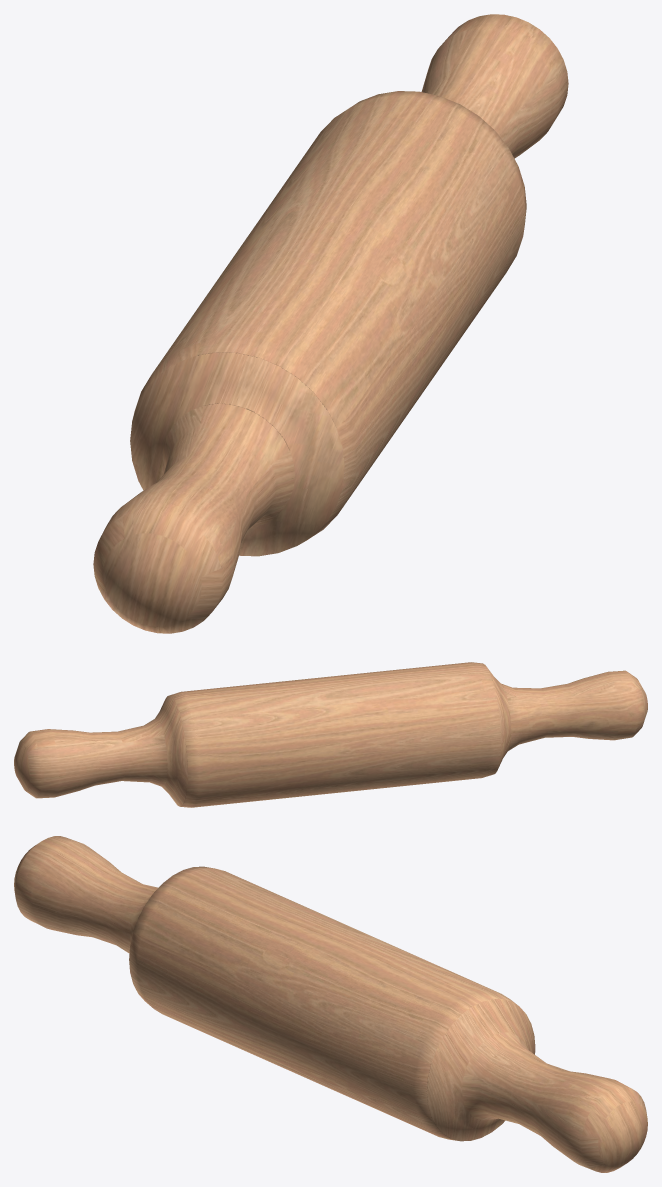
File: low-poly_rolling_pin.fbx
3 renders of one model, top to bottom at view 1: azimuth 30°, elevation 25°; view 2: azimuth 150°, elevation 25°; view 3: azimuth 270°, elevation 25°, orthographic. The views are drawn at different scales.
Parts seen in each view (by area): view 1: node_857ee8d4_5890_449c_86ff_f28c50228d25_mesh0; view 2: node_857ee8d4_5890_449c_86ff_f28c50228d25_mesh0; view 3: node_857ee8d4_5890_449c_86ff_f28c50228d25_mesh0.
Part boxes in pixels (bbox=[...]): node_857ee8d4_5890_449c_86ff_f28c50228d25_mesh0: bbox=[93, 14, 568, 633]; node_857ee8d4_5890_449c_86ff_f28c50228d25_mesh0: bbox=[14, 662, 647, 807]; node_857ee8d4_5890_449c_86ff_f28c50228d25_mesh0: bbox=[14, 836, 647, 1172].
Size of the model in its own units: 414 by 97.81 by 397.
Materials: 1 (1 with a texture image).
